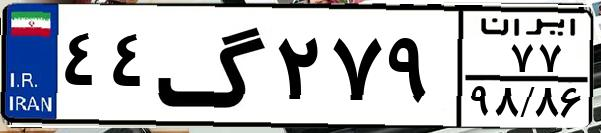2: (270, 28, 330, 110)
4: (57, 26, 110, 100), (110, 28, 156, 98)
6: (560, 70, 590, 125)
7: (330, 28, 385, 110), (537, 27, 568, 80), (508, 27, 537, 80)
8: (495, 70, 520, 125), (535, 70, 560, 125)
9: (385, 28, 445, 110), (470, 70, 495, 125)
گ: (156, 12, 270, 120)
